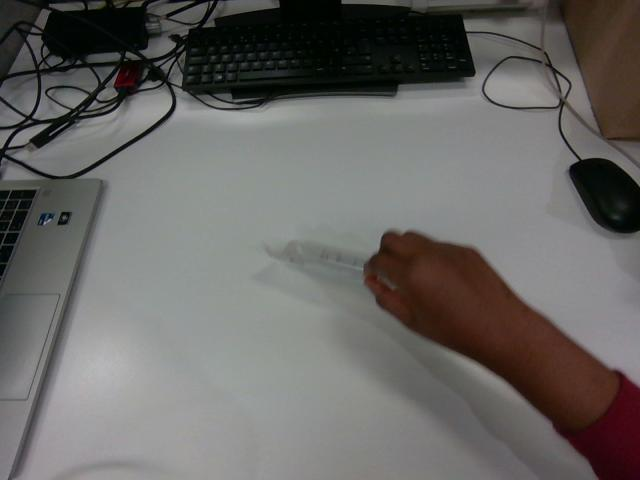syringe: (264, 240, 368, 278)
